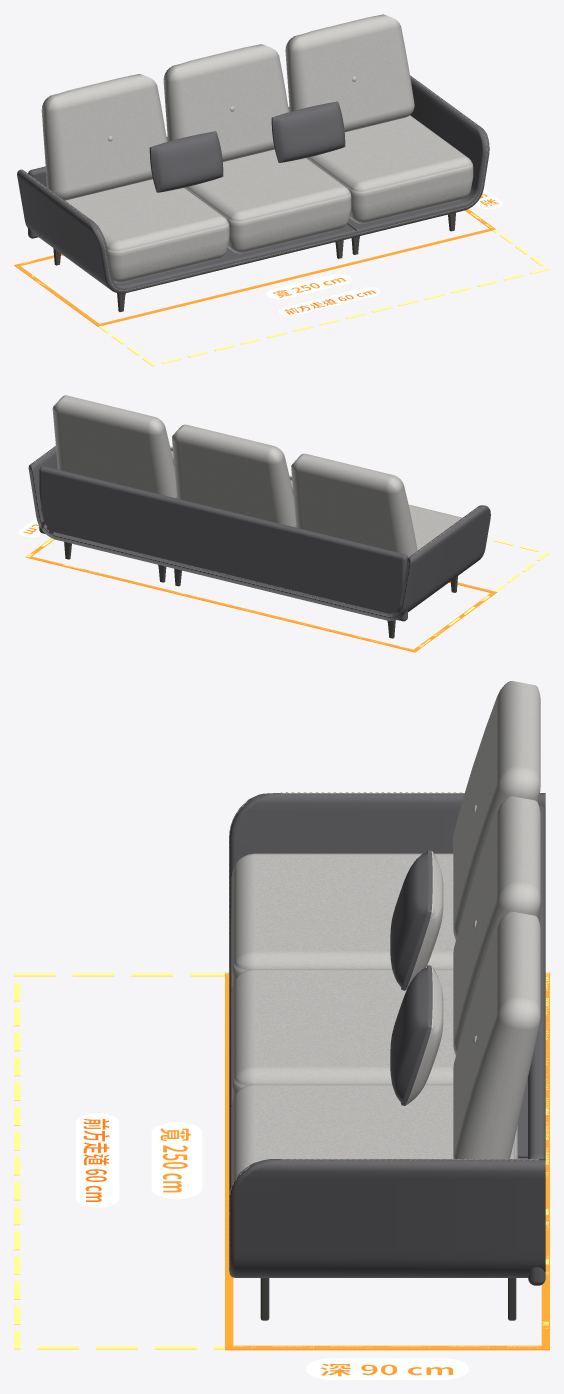
The model's file is own120-f.glb.
3 renders of one model, top to bottom at view 1: azimuth 30°, elevation 25°; view 2: azimuth 150°, elevation 25°; view 3: azimuth 270°, elevation 25°, orthographic. The views are drawn at different scales.
Visible parts, largest first — view 1: object 1, object 12, object 16, object 11, object 10, object 14, object 9, ar-frame, object 21, object 19, object 3; view 2: object 8, object 12, object 14, object 16, object 1, ar-frame, object 9; view 3: object 1, object 9, object 10, ar-frame, object 11, object 16, object 14, object 12, object 21, object 19, object 8, object 22 (+1 smaller).
Boxes of the visible parts, bbox=[...] form: object 1: bbox=[17, 75, 489, 293]; object 12: bbox=[41, 74, 167, 200]; object 16: bbox=[285, 14, 414, 132]; object 11: bbox=[306, 115, 473, 223]; object 10: bbox=[184, 149, 351, 253]; object 14: bbox=[163, 44, 288, 161]; object 9: bbox=[65, 179, 229, 283]; ar-frame: bbox=[14, 188, 549, 366]; object 21: bbox=[271, 101, 345, 162]; object 19: bbox=[150, 131, 223, 192]; object 3: bbox=[97, 135, 487, 291]; object 8: bbox=[39, 466, 407, 621]; object 12: bbox=[291, 453, 417, 557]; object 14: bbox=[172, 424, 296, 527]; object 16: bbox=[52, 395, 176, 498]; object 1: bbox=[28, 446, 490, 620]; ar-frame: bbox=[18, 518, 549, 652]; object 9: bbox=[408, 504, 462, 550]; object 1: bbox=[229, 793, 545, 1277]; object 9: bbox=[231, 853, 455, 989]; object 10: bbox=[231, 969, 455, 1104]; ar-frame: bbox=[14, 972, 549, 1379]; object 11: bbox=[231, 1084, 517, 1184]; object 16: bbox=[453, 911, 540, 1158]; object 14: bbox=[453, 796, 540, 1055]; object 12: bbox=[453, 681, 540, 940]; object 21: bbox=[390, 965, 432, 1105]; object 19: bbox=[390, 850, 432, 990]; object 8: bbox=[528, 805, 545, 1285]; object 22: bbox=[406, 966, 443, 1104].
Bounding box in the file's own units: 2.73 × 1.02 × 1.52.
11 materials, 4 textured.
